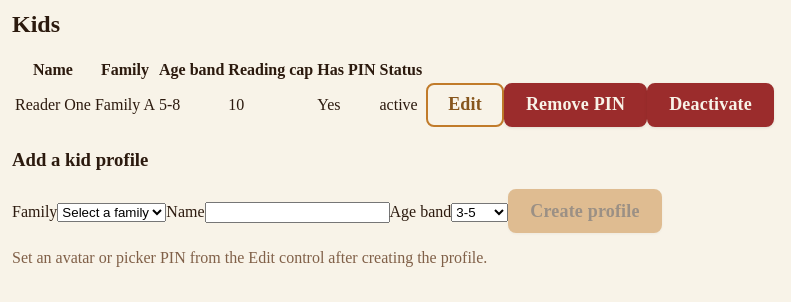
Test case: KidsTab › shows an error when removing a PIN fails
Click the button "Remove PIN" at {"x": 576, "y": 105}, box [504, 83, 647, 127]
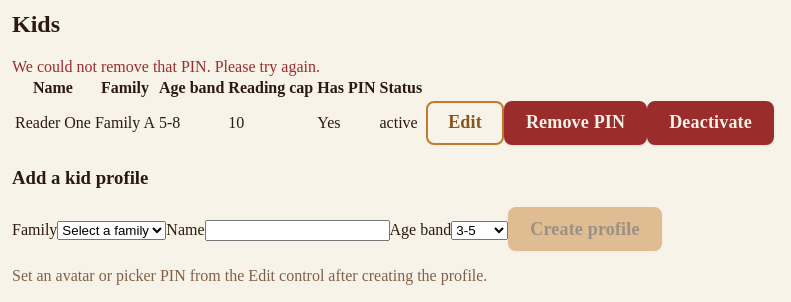
Check: the message shows "could not remove that PIN", box [12, 58, 320, 75]
